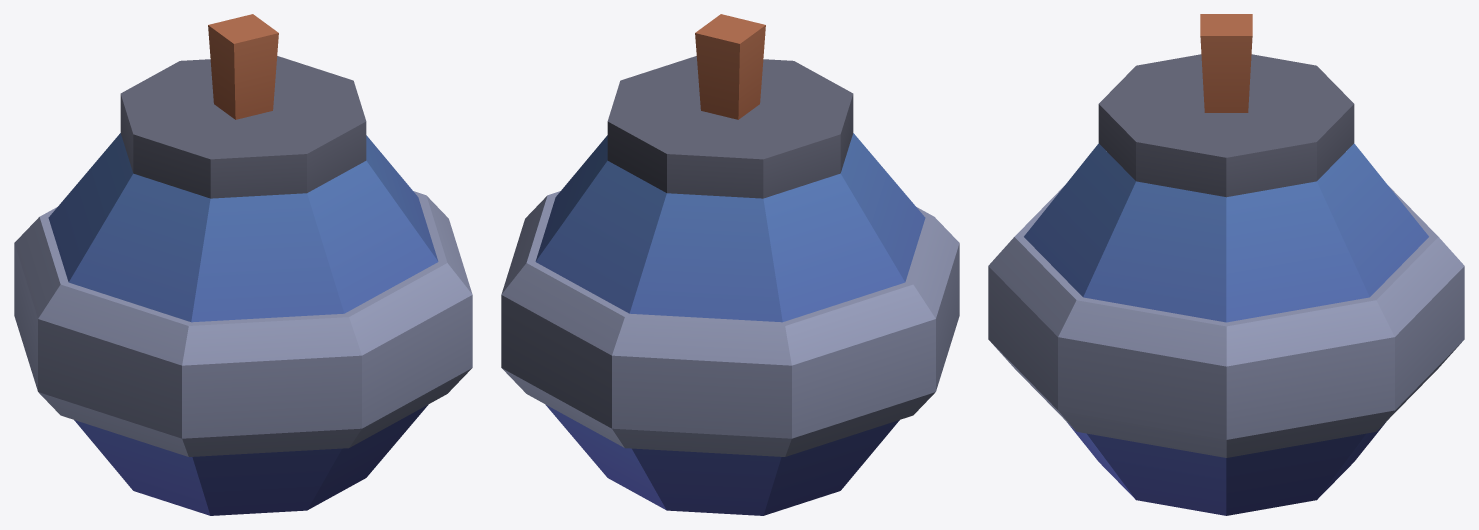
File: bomb.glb
The picture shows the model from 3 angles, left to right: view 1: azimuth 30°, elevation 25°; view 2: azimuth 150°, elevation 25°; view 3: azimuth 270°, elevation 25°; orthographic projection.
Visible parts, largest first — view 1: geometry_0; view 2: geometry_0; view 3: geometry_0.
Boxes of the visible parts, x1,y1,x2,y2 form: geometry_0: [14, 14, 472, 515]; geometry_0: [501, 14, 959, 515]; geometry_0: [988, 14, 1464, 515].
Bounding box in the file's own units: 0.7552 × 0.83 × 0.7552.
